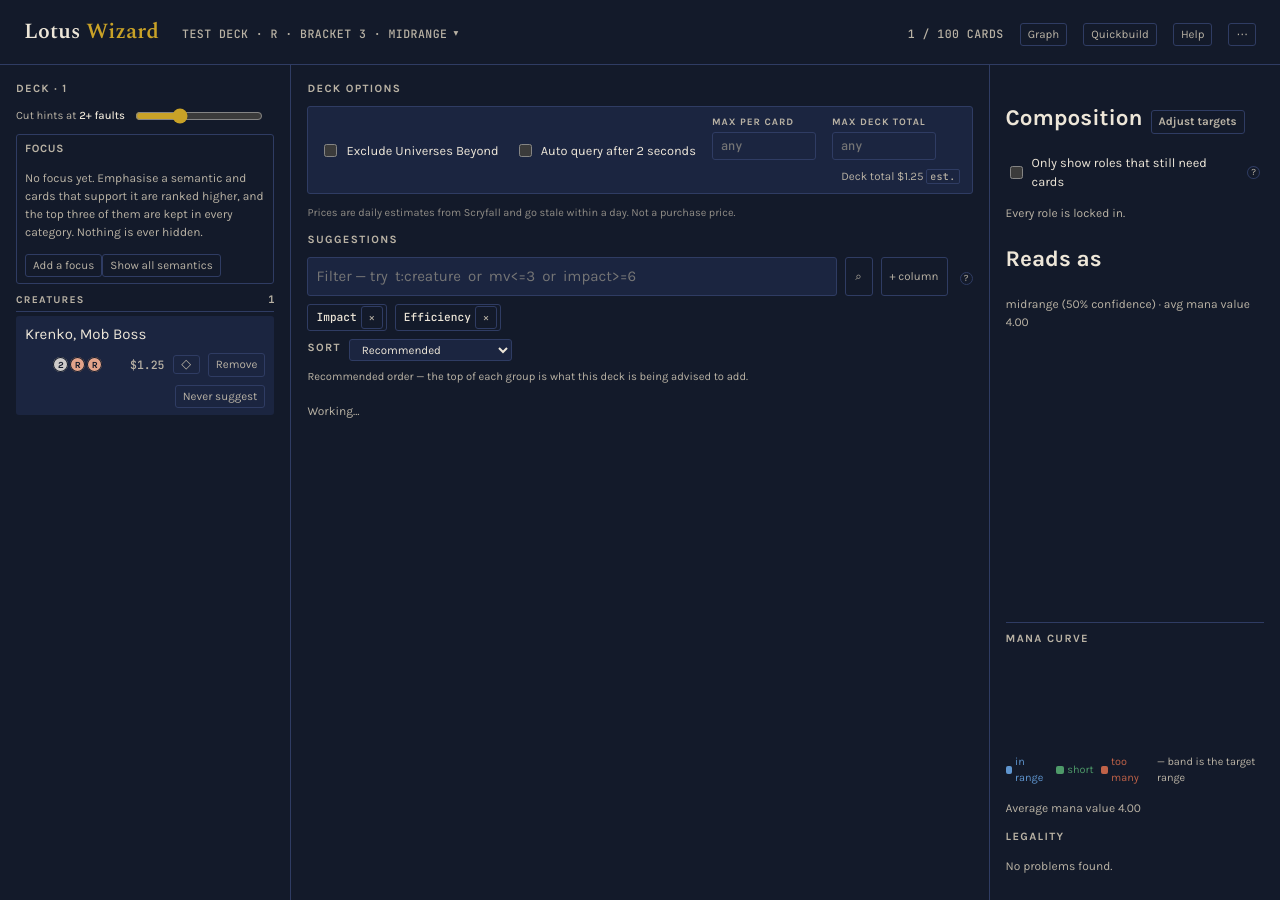
it: the preview pane with a card that has no art › does not repeat the card in a fallback panel the pane already is
What coordinates should you click on to do the following:
click the button with aria-label "Preview Krenko, Mob Boss"
I would click on:
 (145, 334)
Its box is [25,323,266,345].
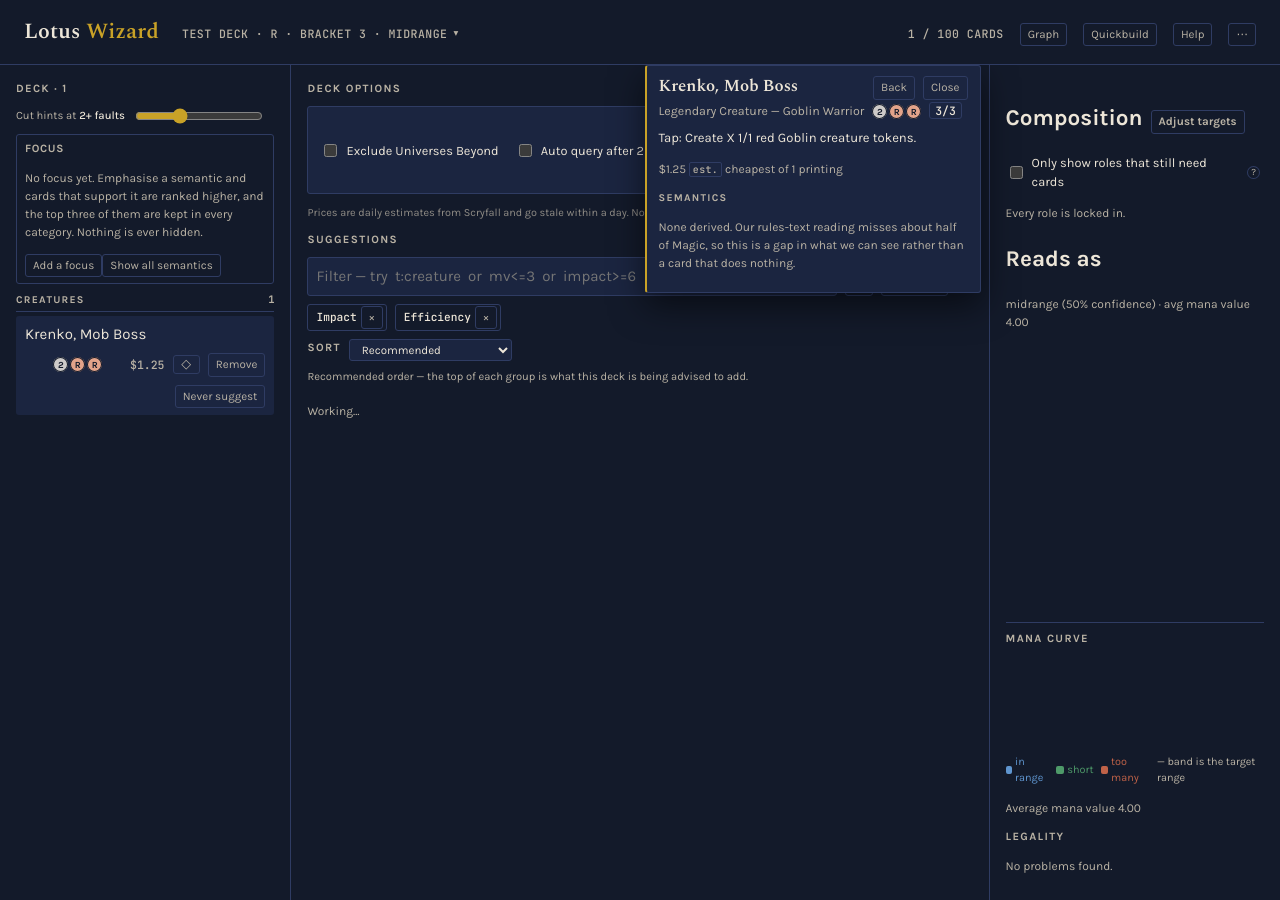
Expected: the number of elements with class "rt-oracle-ability" is 1, [658,130,916,145]
